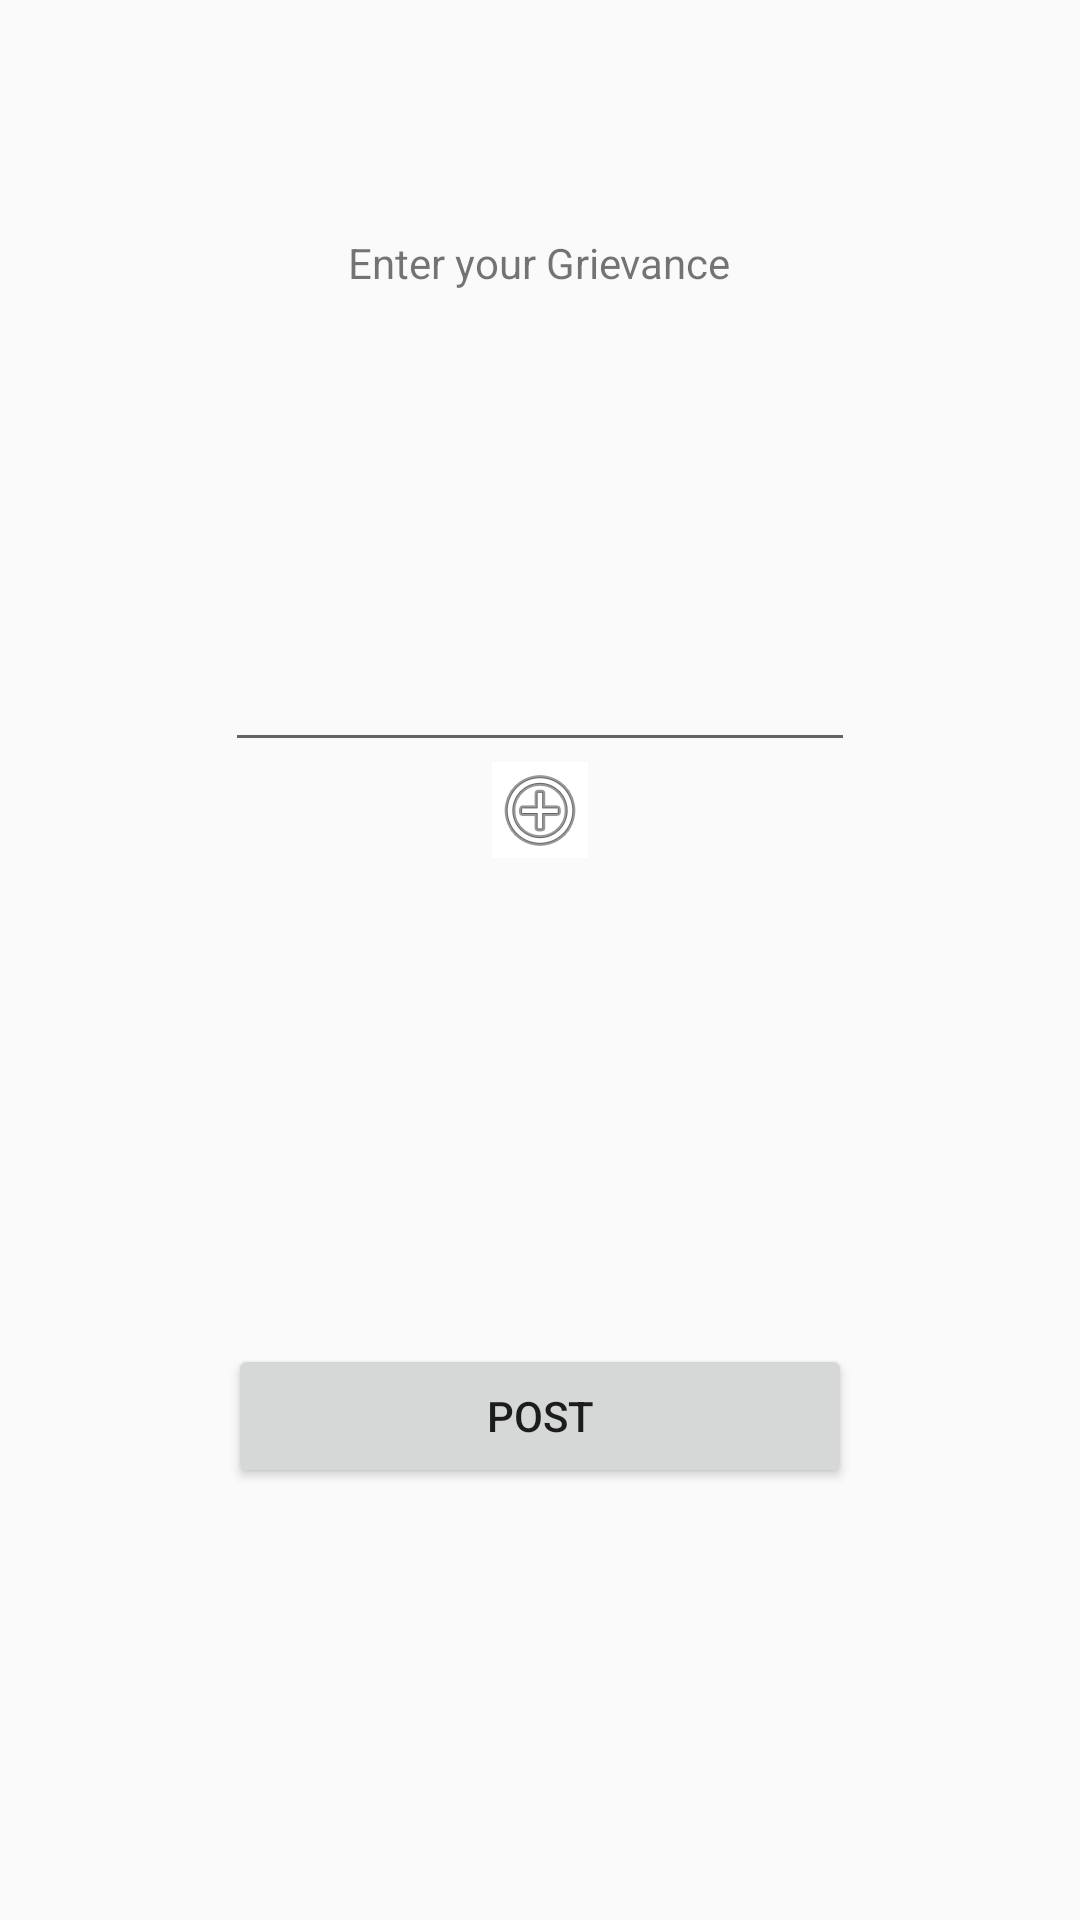

Screen size 1080x1920. Icon name, then its center in pixels as [x,y]:
add: [540,810]
